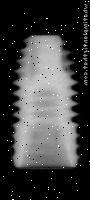Osstem Implant: (12, 34, 79, 168)
